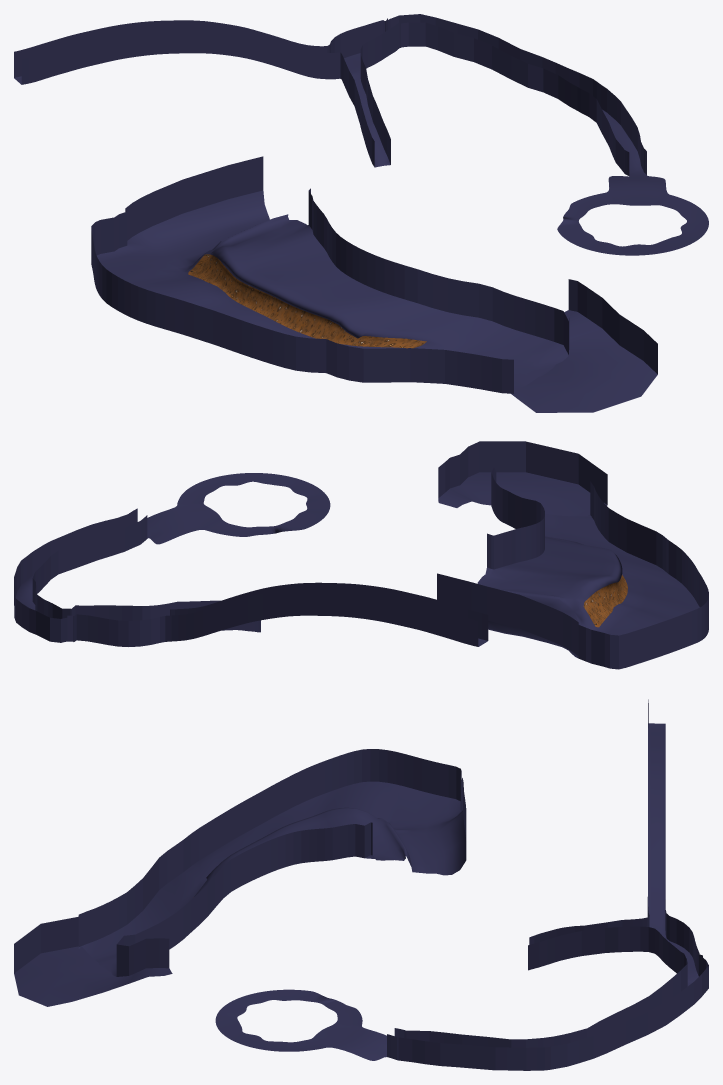
Rendered from ColiderplanerV4.fbx.
The picture shows the model from 3 angles, top to bottom: view 1: azimuth 30°, elevation 25°; view 2: azimuth 150°, elevation 25°; view 3: azimuth 270°, elevation 25°; orthographic projection. The views are drawn at different scales.
Visible parts, largest first — view 1: Colis.001, Colis, Collis.001; view 2: Colis.001, Colis, Collis.001; view 3: Colis.001, Colis, Collis.001.
Part boxes in pixels (x1,y1,x2,y2): Colis.001: [91, 156, 568, 393]; Colis: [14, 14, 708, 255]; Collis.001: [510, 279, 657, 412]; Colis.001: [437, 467, 708, 669]; Colis: [14, 473, 488, 646]; Collis.001: [438, 441, 607, 516]; Colis.001: [78, 749, 466, 976]; Colis: [215, 699, 708, 1070]; Collis.001: [14, 916, 172, 1006].
Bounding box in the file's own units: 12953 × 3651 × 13878.
